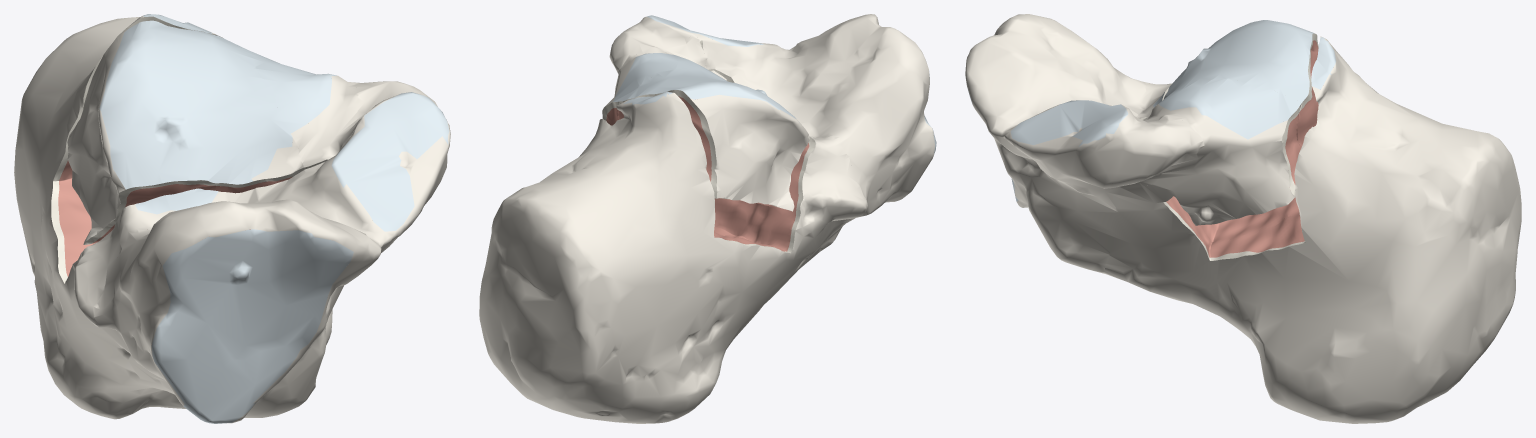
File: S-IIIBC_young.glb
The picture shows the model from 3 angles, left to right: view 1: azimuth 30°, elevation 25°; view 2: azimuth 150°, elevation 25°; view 3: azimuth 270°, elevation 25°; orthographic projection. The views are drawn at different scales.
Parts seen in each view (by area): view 1: calcaneus: sustentacular fragment, calcaneus: lateral joint fragment, calcaneus: tuberosity, calcaneus: central joint fragment (depressed); view 2: calcaneus: tuberosity, calcaneus: sustentacular fragment, calcaneus: lateral joint fragment, calcaneus: central joint fragment (depressed); view 3: calcaneus: tuberosity, calcaneus: sustentacular fragment, calcaneus: central joint fragment (depressed), calcaneus: lateral joint fragment.
Part boxes in pixels (x1,y1,x2,y2): calcaneus: sustentacular fragment: (94,81,450,423); calcaneus: lateral joint fragment: (67,20,304,244); calcaneus: tuberosity: (14,14,332,419); calcaneus: central joint fragment (depressed): (239,46,362,169); calcaneus: tuberosity: (479,92,867,423); calcaneus: sustentacular fragment: (609,14,936,255); calcaneus: lateral joint fragment: (618,65,809,211); calcaneus: central joint fragment (depressed): (602,34,725,125); calcaneus: tuberosity: (1103,36,1521,423); calcaneus: sustentacular fragment: (965,14,1203,273); calcaneus: central joint fragment (depressed): (1145,79,1301,225); calcaneus: lateral joint fragment: (1143,20,1318,147).
Size of the model in its own units: 0.0475 by 0.0513 by 0.0757.
